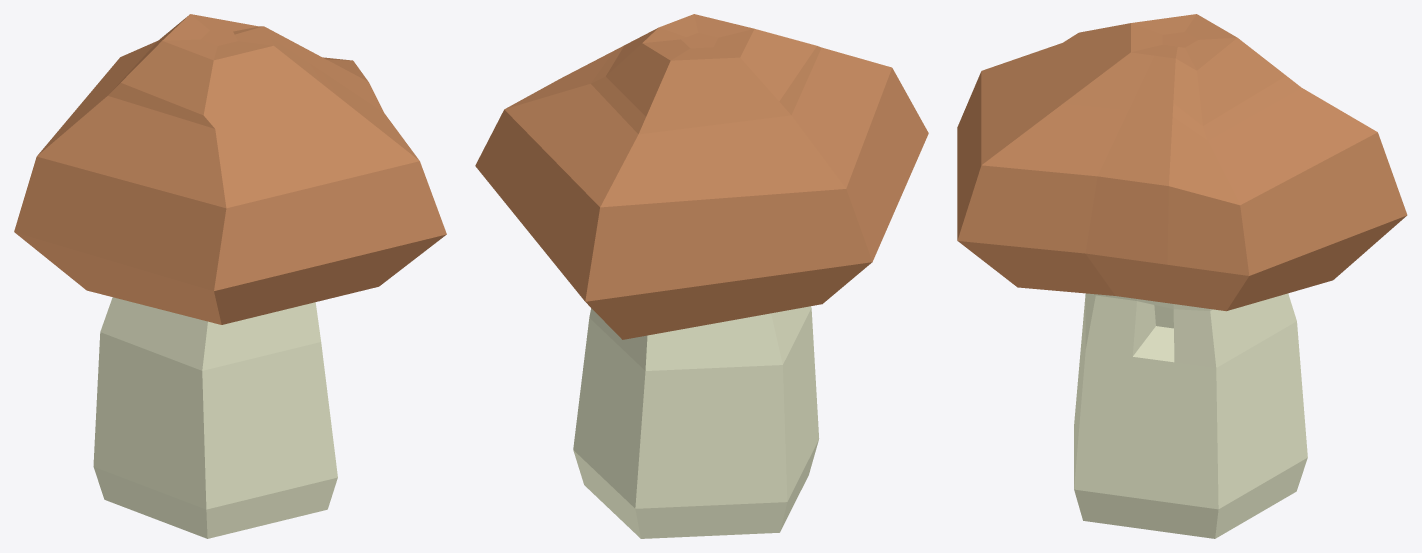
File: Weeping bolete.fbx
3 renders of one model, left to right at view 1: azimuth 30°, elevation 25°; view 2: azimuth 150°, elevation 25°; view 3: azimuth 270°, elevation 25°, orthographic.
Parts seen in each view (by area): view 1: Cylinder; view 2: Cylinder; view 3: Cylinder.
Boxes of the visible parts, x1,y1,x2,y2 form: Cylinder: [14, 14, 446, 538]; Cylinder: [475, 14, 928, 538]; Cylinder: [957, 14, 1407, 538].
Size of the model in its own units: 199 by 229 by 205.
